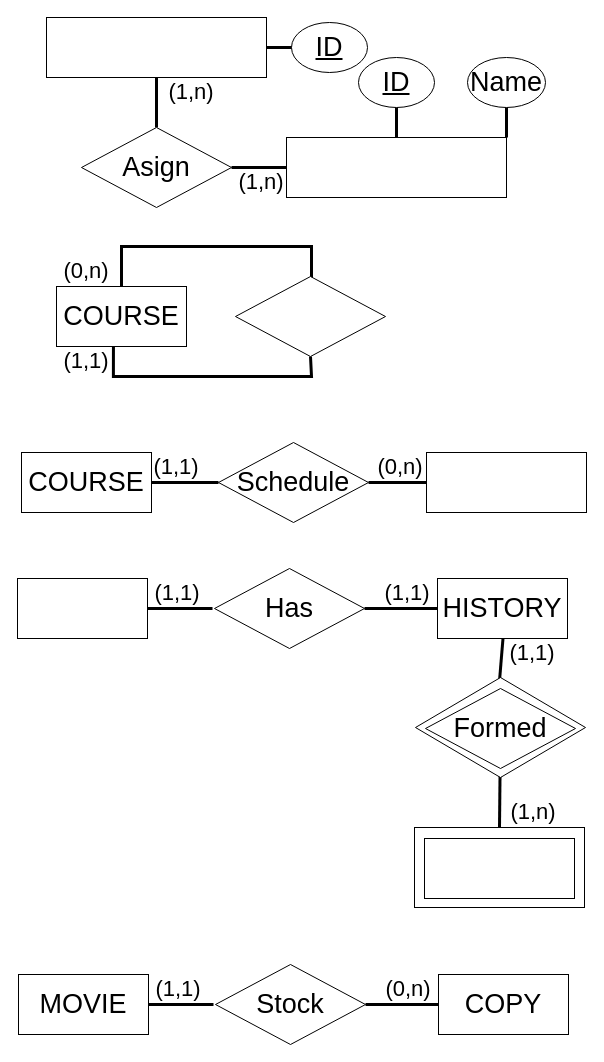
Image size: 604x1062. Some labels were removed from this diagram. The shapes that lost their labels are listed below. From the top down, each one's centre as x and y in pixels, then its label:
point (156, 47): PROJECT
point (396, 167): EMPLOYEE
point (310, 316): Require
point (506, 482): SECTIONS
point (82, 608): PATIENT
point (499, 868): REGISTER
